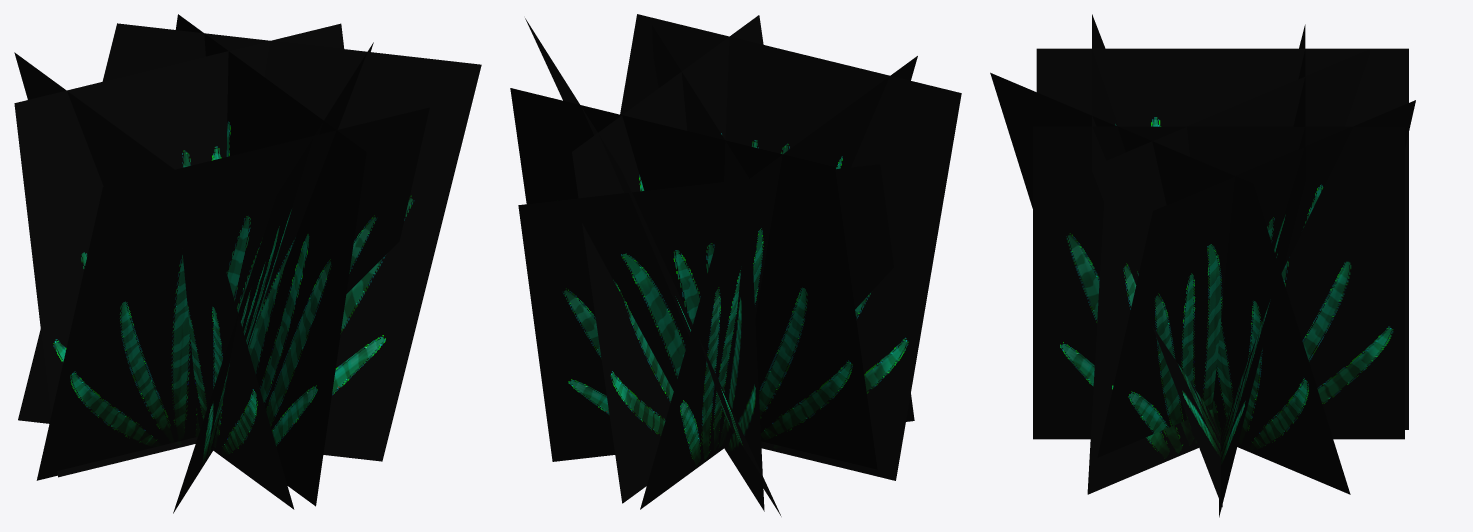
Rendered from vegetation-bush01.glb.
The picture shows the model from 3 angles, left to right: view 1: azimuth 30°, elevation 25°; view 2: azimuth 150°, elevation 25°; view 3: azimuth 270°, elevation 25°; orthographic projection.
Bounding box in the file's own units: 0.6267 × 0.5 × 0.6299.
1 material, 1 textured.
